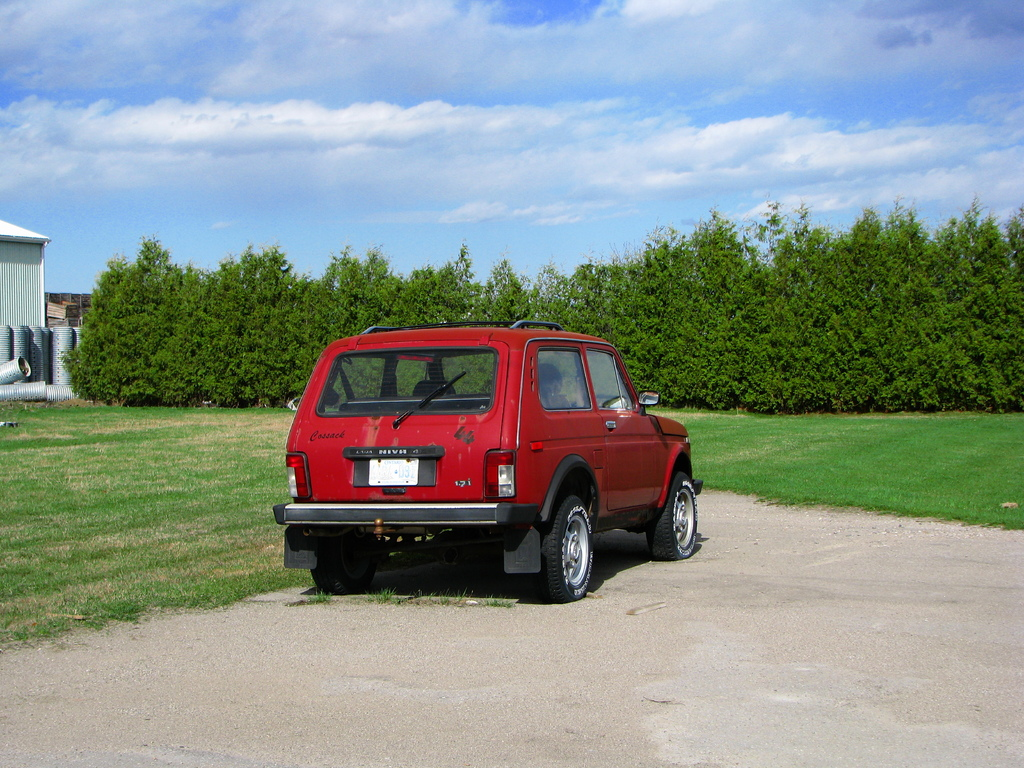Car: (273, 320, 703, 599)
